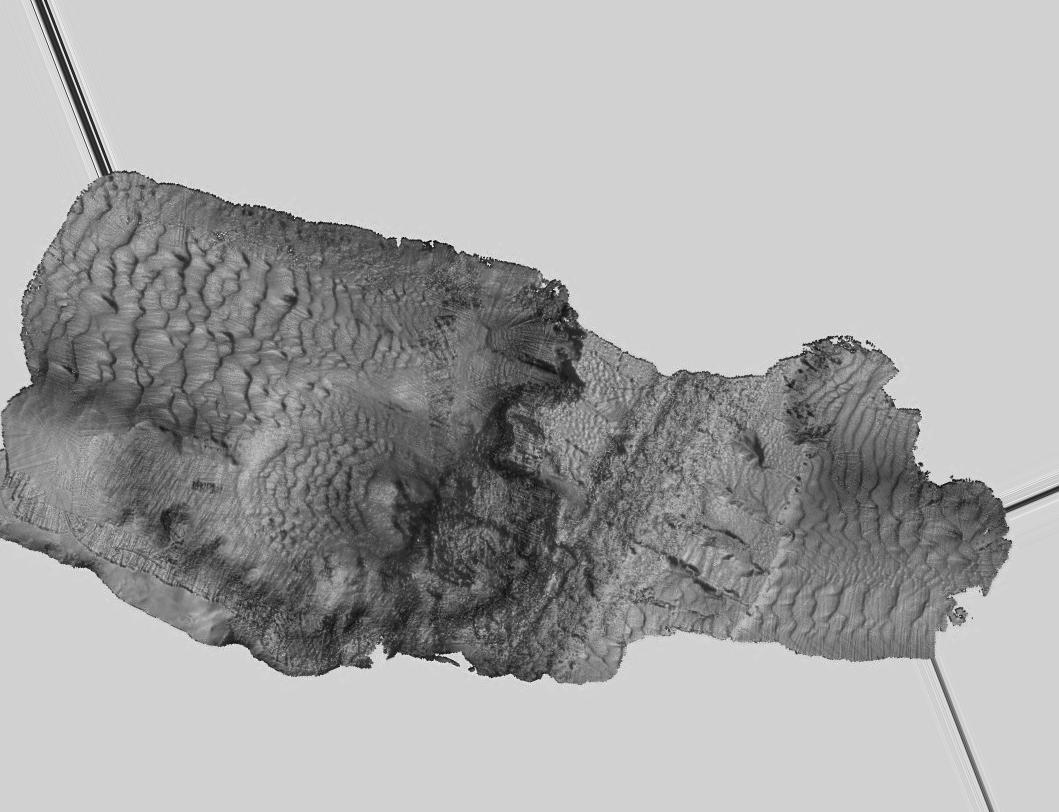Dune: (68, 217, 298, 439), (824, 437, 927, 648), (776, 575, 933, 649), (252, 447, 355, 530)
Scarp: (195, 580, 544, 696)
Scour pit: (353, 435, 473, 579)
Submerged dike: (548, 496, 686, 691), (629, 371, 719, 576)
